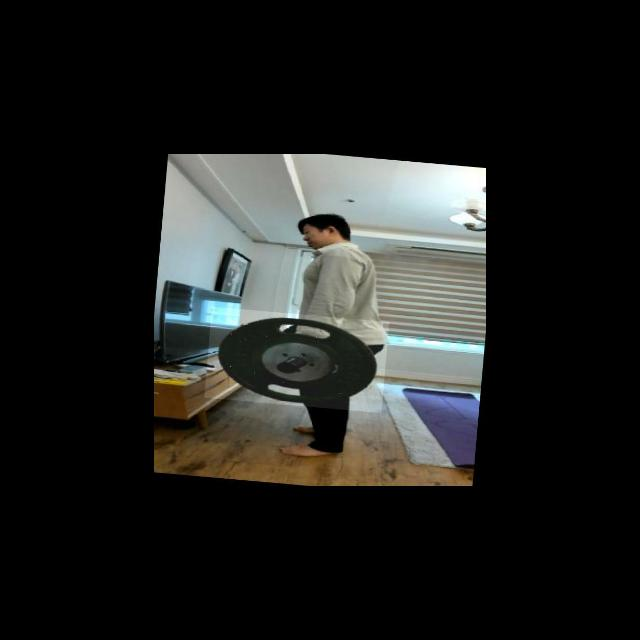barbell: (204, 307, 389, 413)
